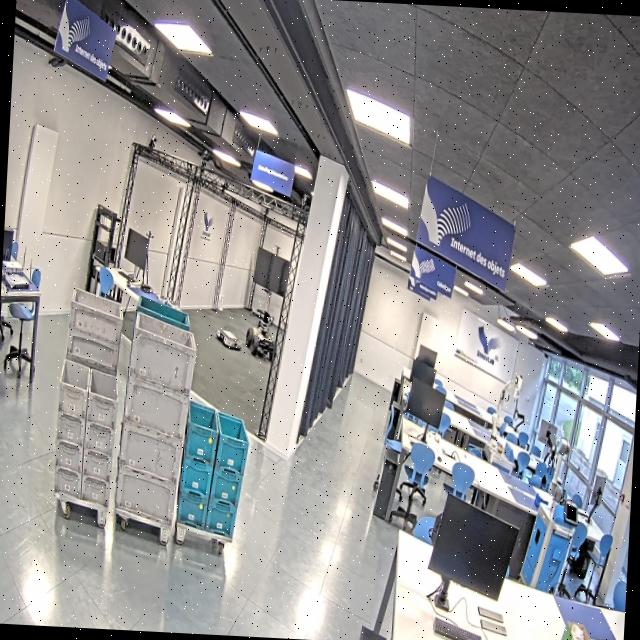Box3G: (55, 286, 127, 486)
Box4G: (112, 310, 200, 530)
Box8G: (52, 356, 121, 509)
BoxB4: (114, 292, 193, 509)
BoxB8: (175, 398, 252, 542)
